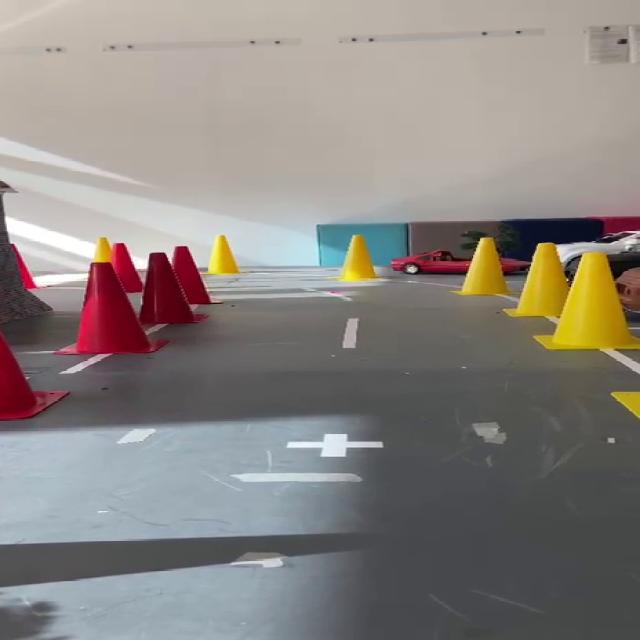Cone-red: (59, 239, 164, 353), (0, 332, 68, 419), (139, 252, 201, 325), (172, 246, 218, 303), (112, 243, 142, 293)
Cones-yellow: (534, 253, 639, 350), (508, 243, 568, 318), (459, 238, 509, 294), (339, 235, 377, 278), (208, 235, 240, 275), (611, 392, 639, 418), (91, 238, 110, 262)
